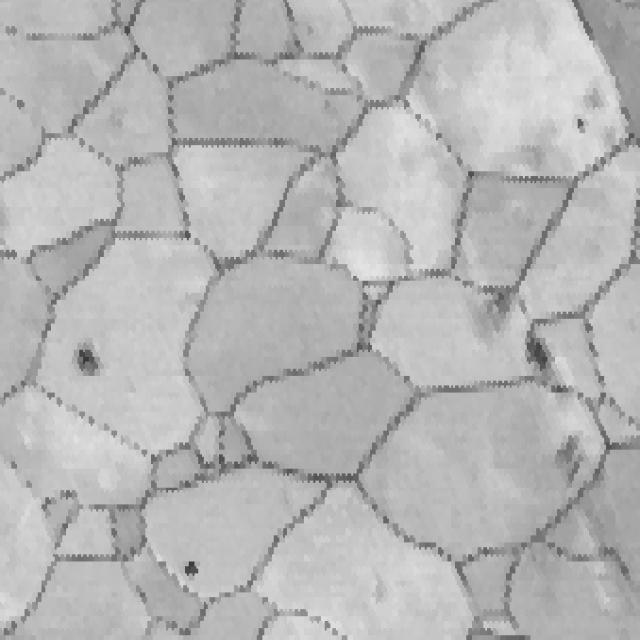good_void: (554, 430, 586, 487), (477, 288, 516, 333), (524, 322, 554, 379), (74, 340, 106, 383), (182, 550, 213, 581), (569, 111, 590, 144)
